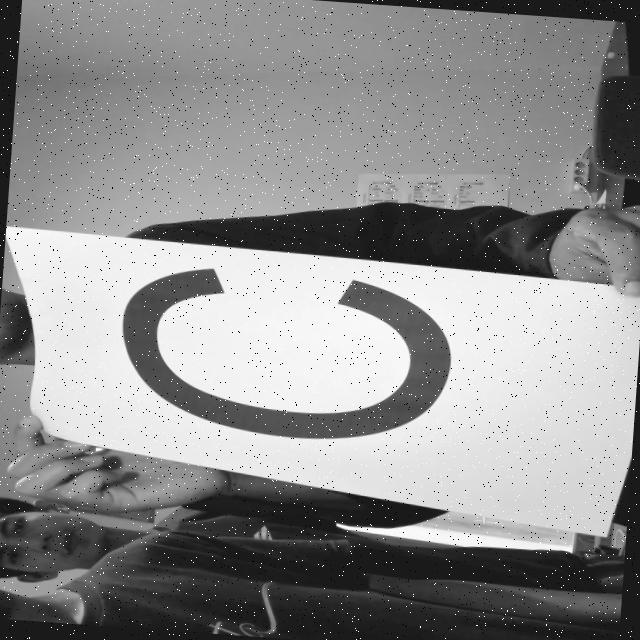c: (100, 253, 467, 452)
